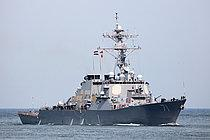MIL_Ship: (18, 17, 185, 126)
